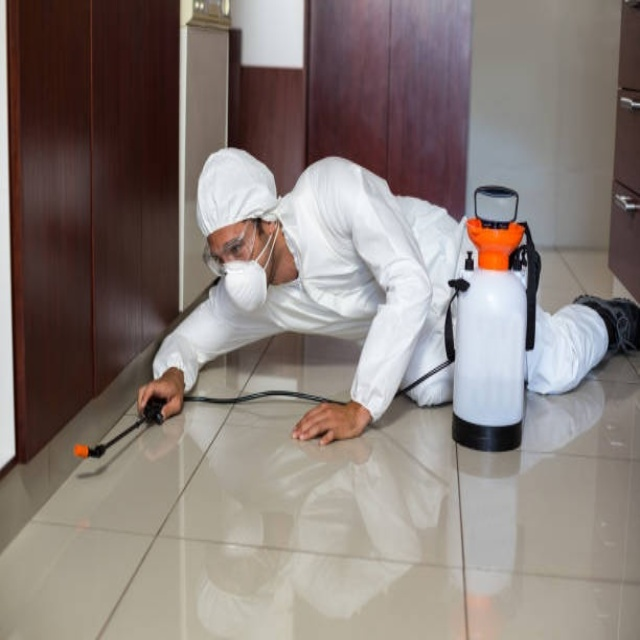Gafas: (205, 218, 263, 276)
Mascara: (220, 238, 276, 311)
Sin_guantes: (290, 400, 360, 446), (139, 368, 184, 420)
